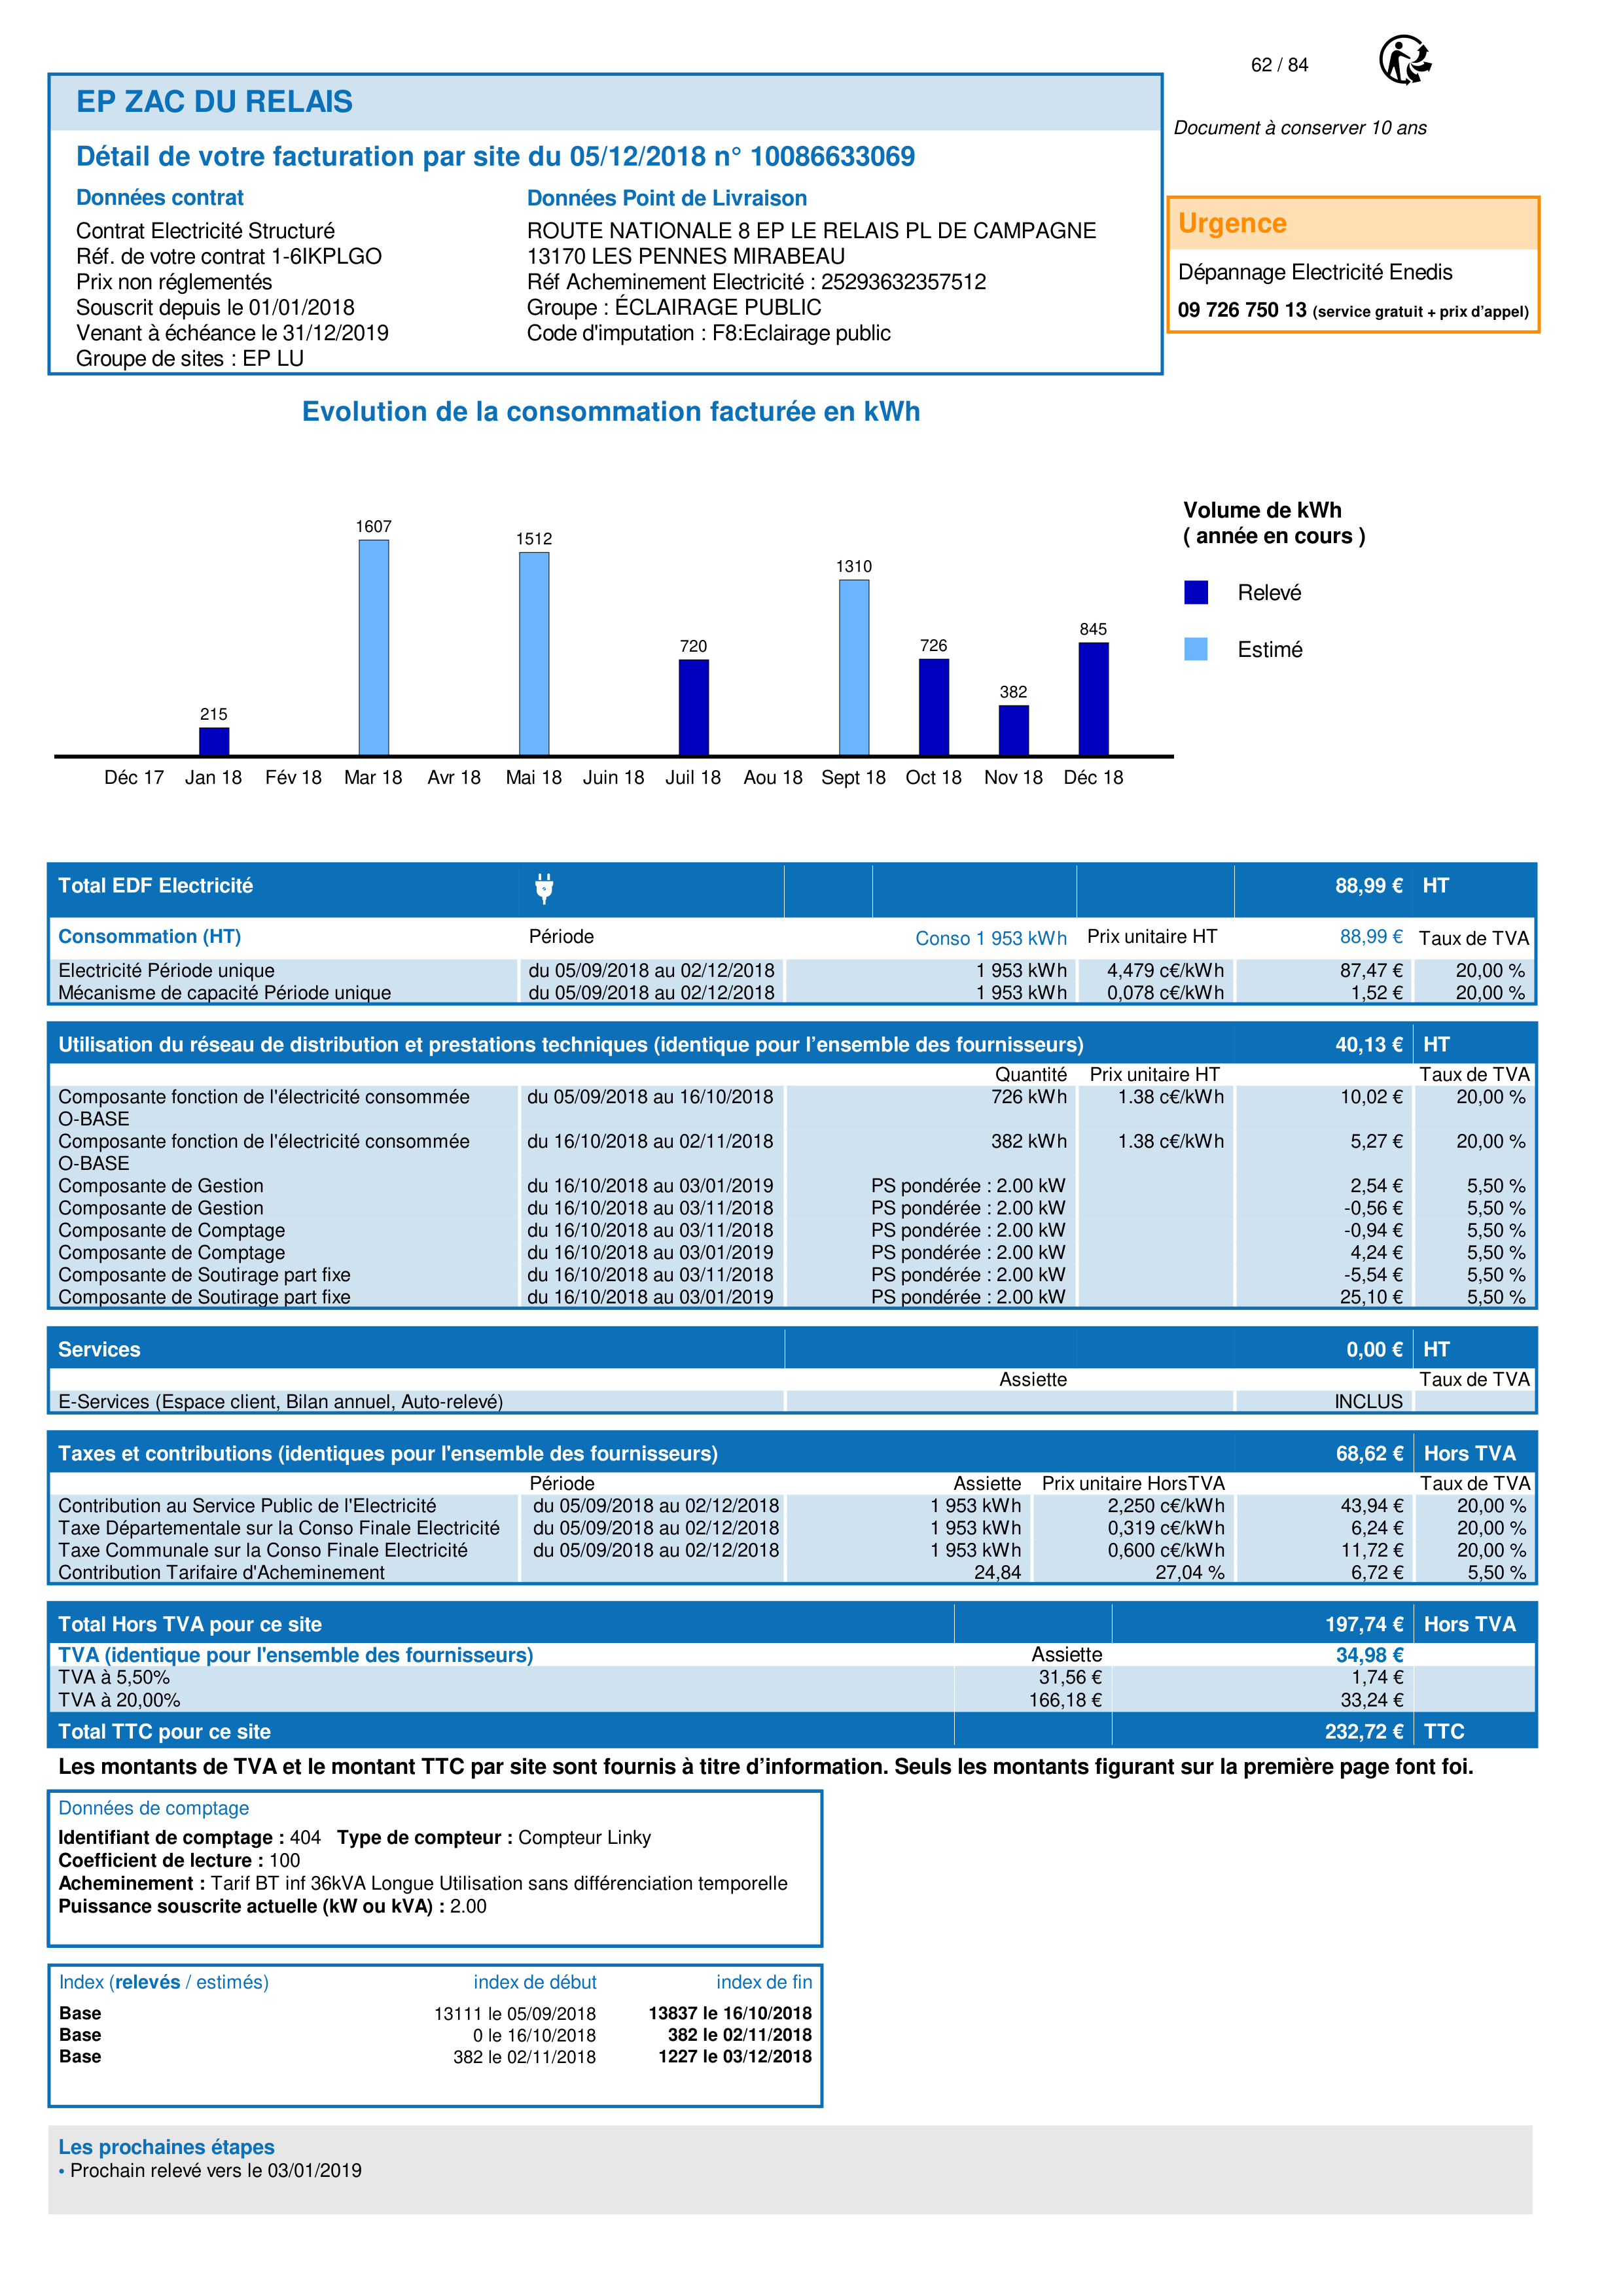area: (46, 1966, 823, 2108)
type_indicator: (46, 1964, 289, 2002)
